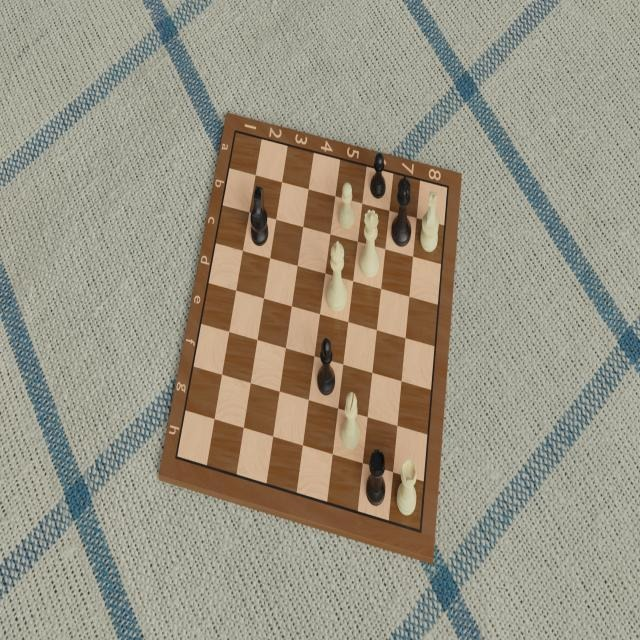black-bishop: (316, 336, 336, 396)
black-king: (390, 174, 412, 249)
black-knight: (249, 184, 269, 246)
black-pawn: (370, 151, 386, 198)
black-rook: (366, 448, 386, 506)
white-bishop: (339, 390, 360, 450)
white-king: (324, 238, 347, 313)
white-knight: (420, 190, 440, 254)
white-pawn: (337, 181, 355, 231)
white-queen: (359, 209, 381, 279)
white-rook: (395, 457, 417, 516)
